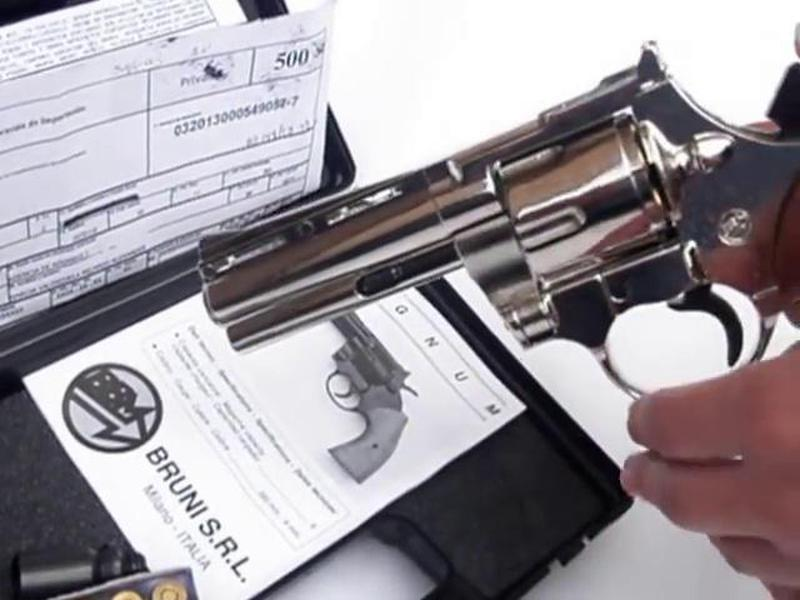Revolver: (209, 34, 800, 417)
